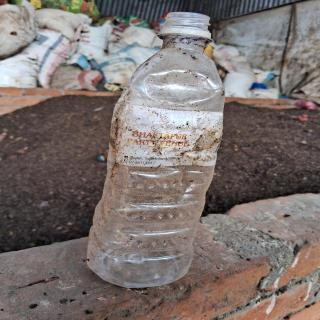Plastic-bottle: (81, 8, 261, 302)
